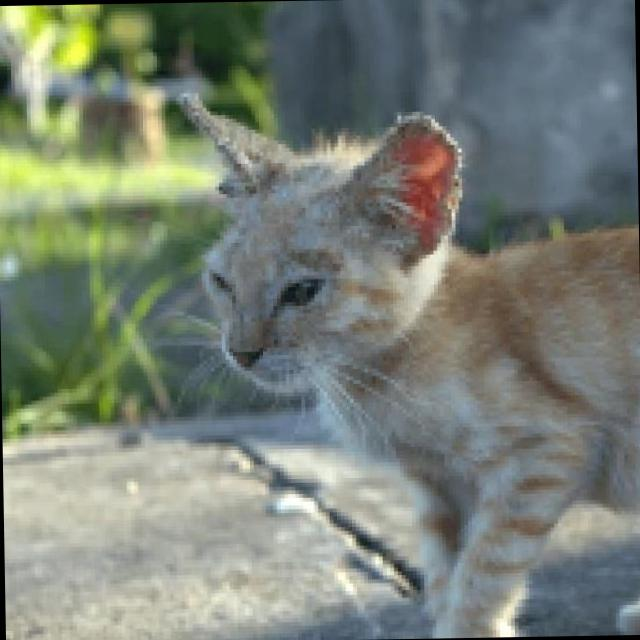Mange: (394, 111, 467, 226), (168, 90, 247, 194)
